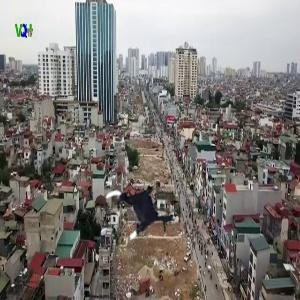drone: (100, 173, 182, 255)
